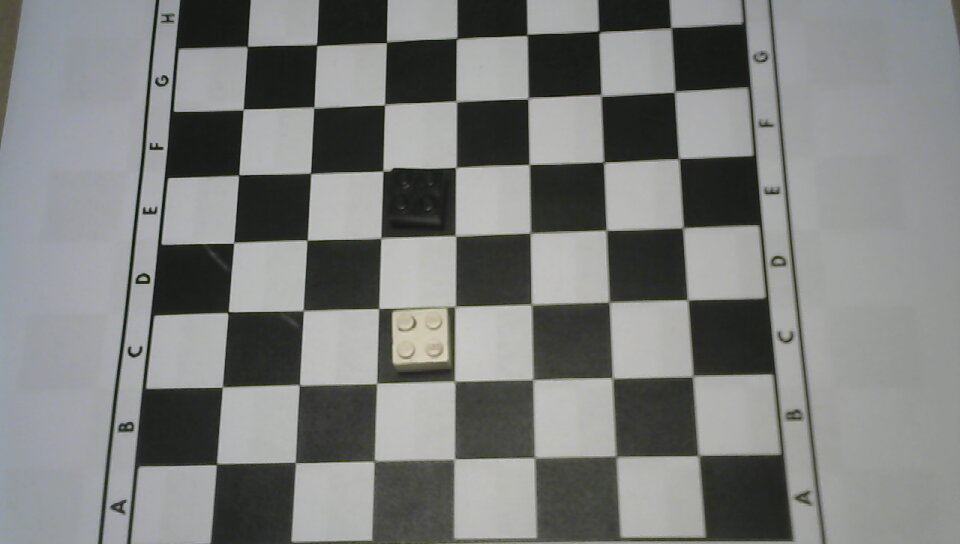bp: (382, 163, 451, 232)
